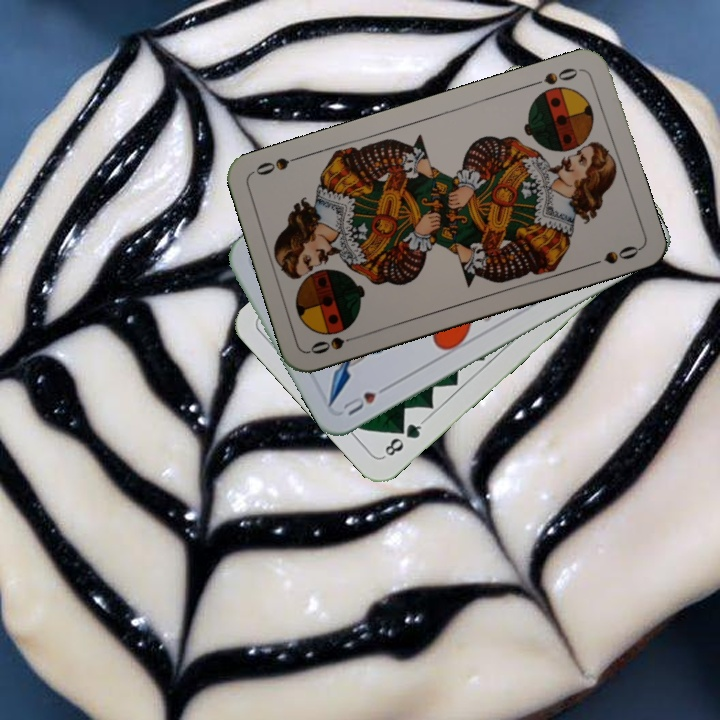G8: (379, 416, 427, 460)
HU: (339, 380, 393, 418)
SO: (306, 331, 364, 357), (527, 64, 585, 89)
